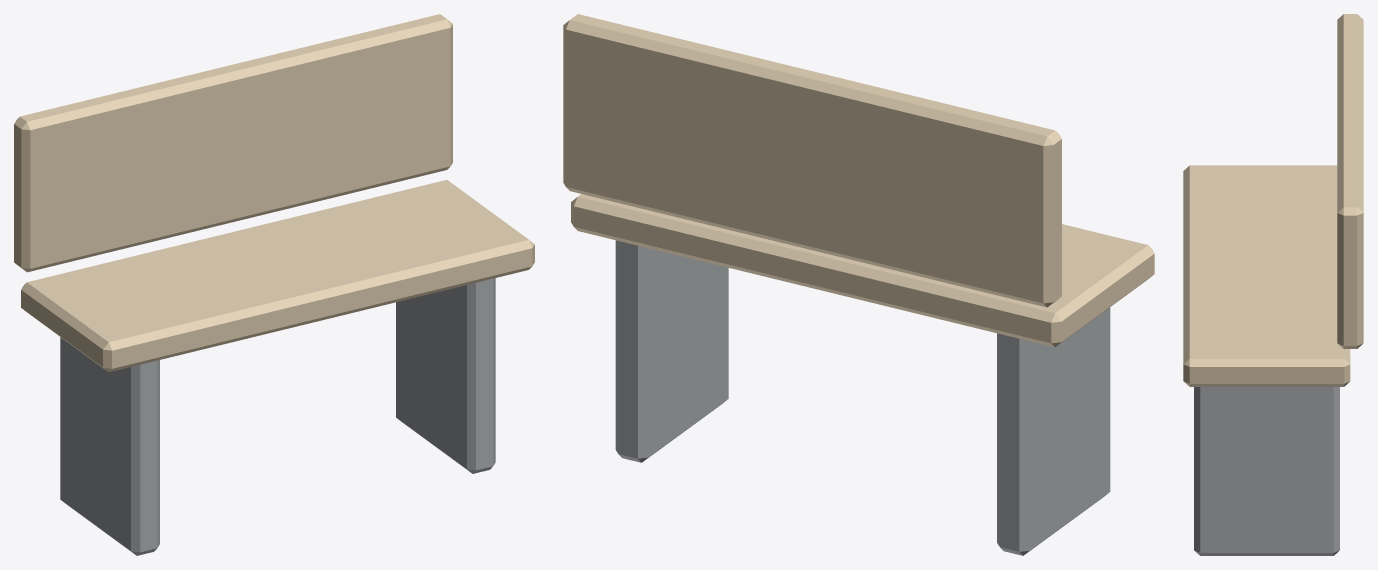
Rendered from bench.glb.
3 renders of one model, left to right at view 1: azimuth 30°, elevation 25°; view 2: azimuth 150°, elevation 25°; view 3: azimuth 270°, elevation 25°, orthographic. The views are drawn at different scales.
Visible parts, largest first — view 1: back, seat, leg, leg.001; view 2: back, seat, leg, leg.001; view 3: seat, leg.001, back.
Boxes of the visible parts, box(x1,y1,x2,y2) form: back: box(14, 14, 452, 272); seat: box(21, 180, 534, 372); leg: box(60, 337, 159, 555); leg.001: box(396, 278, 495, 473); back: box(563, 14, 1061, 307); seat: box(571, 194, 1154, 347); leg: box(997, 307, 1110, 555); leg.001: box(615, 240, 728, 462); seat: box(1183, 165, 1350, 386); leg.001: box(1194, 387, 1339, 555); back: box(1337, 14, 1363, 348).
Size of the model in its own units: 0.9 by 0.77 by 0.345.
